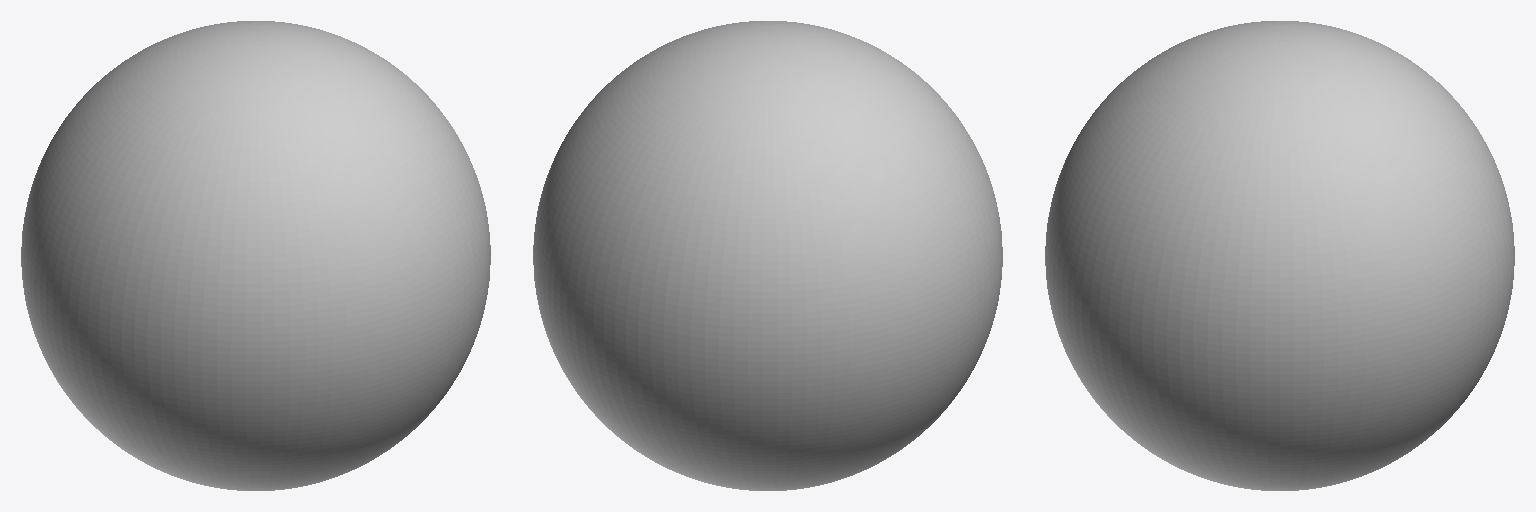
The model's file is uranus.obj.
3 renders of one model, left to right at view 1: azimuth 30°, elevation 25°; view 2: azimuth 150°, elevation 25°; view 3: azimuth 270°, elevation 25°, orthographic.
Parts seen in each view (by area): view 1: Uranus_Sphere.007; view 2: Uranus_Sphere.007; view 3: Uranus_Sphere.007.
Boxes of the visible parts, box(x1,y1,x2,y2) form: Uranus_Sphere.007: box(21, 21, 490, 490); Uranus_Sphere.007: box(533, 21, 1002, 490); Uranus_Sphere.007: box(1045, 21, 1514, 490).
Bounding box in the file's own units: 1.99 × 2 × 1.99.